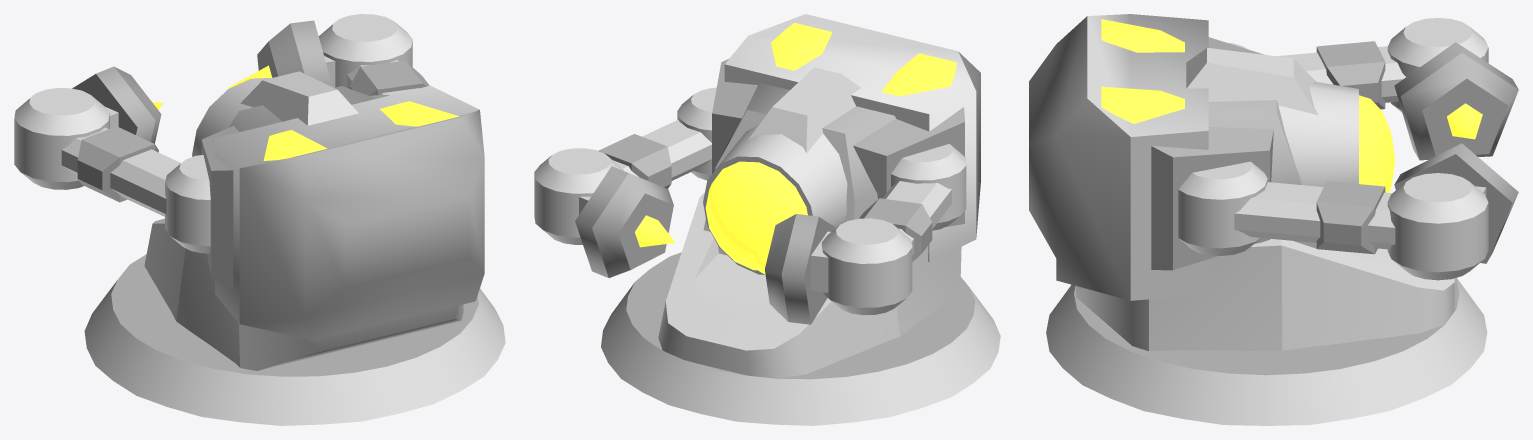
File: SM_Module_TurretHead_Laser_T1.fbx
3 views of the same model, side by side, from view 1: azimuth 30°, elevation 25°; view 2: azimuth 150°, elevation 25°; view 3: azimuth 270°, elevation 25° (orthographic). The views are drawn at different scales.
Parts seen in each view (by area): view 1: SM_Module_TurretHead_Laser_T1; view 2: SM_Module_TurretHead_Laser_T1; view 3: SM_Module_TurretHead_Laser_T1.
Part boxes in pixels (x1,y1,x2,y2): SM_Module_TurretHead_Laser_T1: [14, 14, 505, 425]; SM_Module_TurretHead_Laser_T1: [534, 14, 1000, 425]; SM_Module_TurretHead_Laser_T1: [1029, 14, 1518, 425].
Size of the model in its own units: 2.68 by 2.81 by 1.76.
